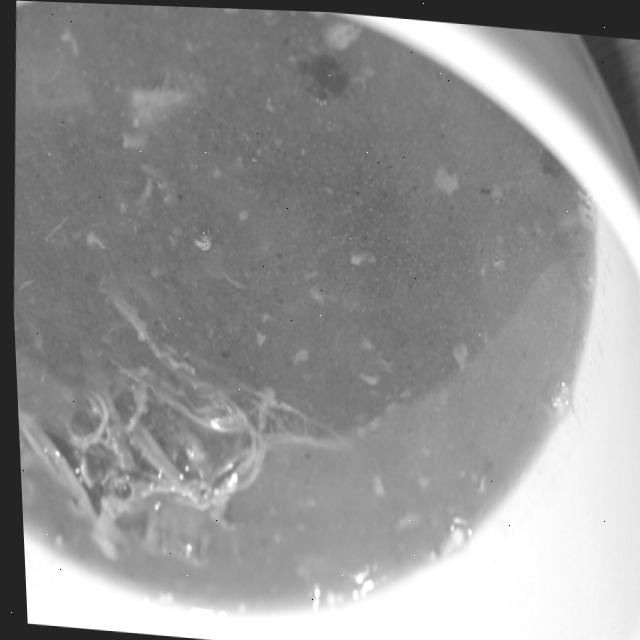汤锅炖物: (0, 0, 595, 635)
